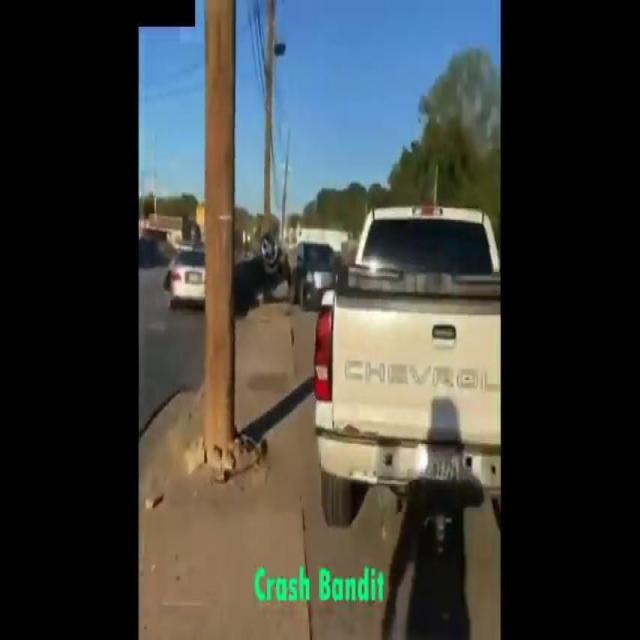accident: (227, 226, 292, 322)
